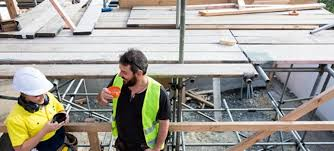hard hat: (12, 67, 53, 97)
high-vis: (110, 74, 162, 150)
